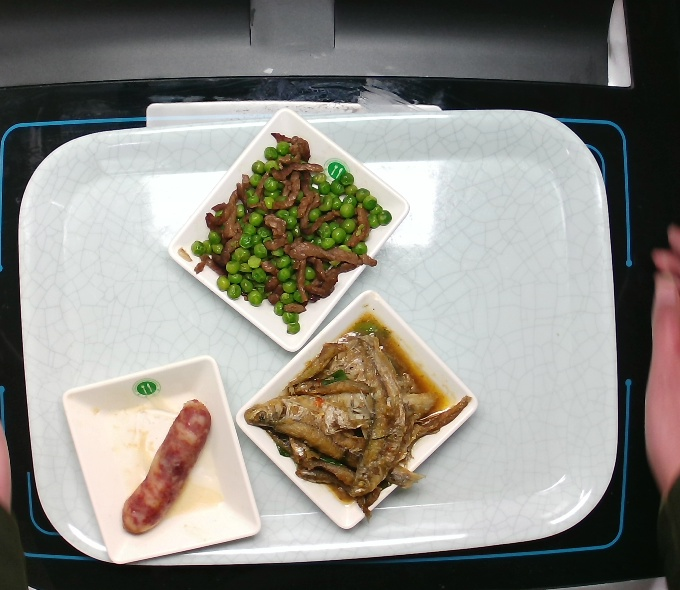wcq-CanDouNiuRou: (191, 128, 390, 344)
wcq-XiangChang: (116, 396, 215, 538)
wcq-XiaoJiYu: (241, 318, 473, 518)
